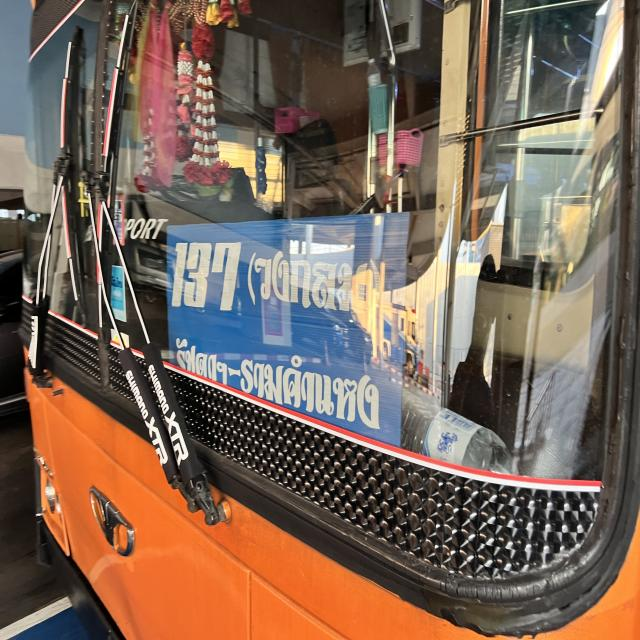BMTA-bus: (0, 0, 640, 640)
Destination-Sign-Normal: (165, 208, 404, 455)
